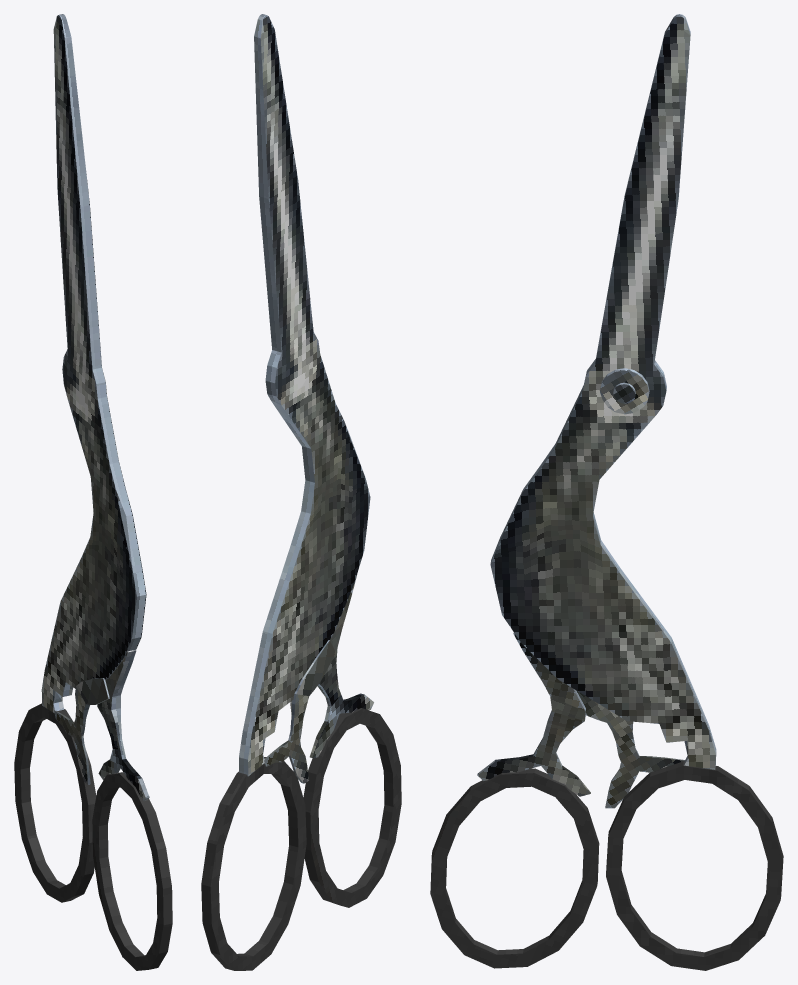
The model's file is SM_Storkpair.glb.
3 views of the same model, side by side, from view 1: azimuth 30°, elevation 25°; view 2: azimuth 150°, elevation 25°; view 3: azimuth 270°, elevation 25° (orthographic). The views are drawn at different scales.
Visible parts, largest first — view 1: SM_Storkpair; view 2: SM_Storkpair; view 3: SM_Storkpair.
Boxes of the visible parts, bbox=[...] form: SM_Storkpair: bbox=[14, 14, 172, 970]; SM_Storkpair: bbox=[201, 14, 401, 970]; SM_Storkpair: bbox=[430, 14, 783, 970].
Size of the model in its own units: 0.067 by 2.33 by 0.7822.
Materials: 1 (1 with a texture image).
